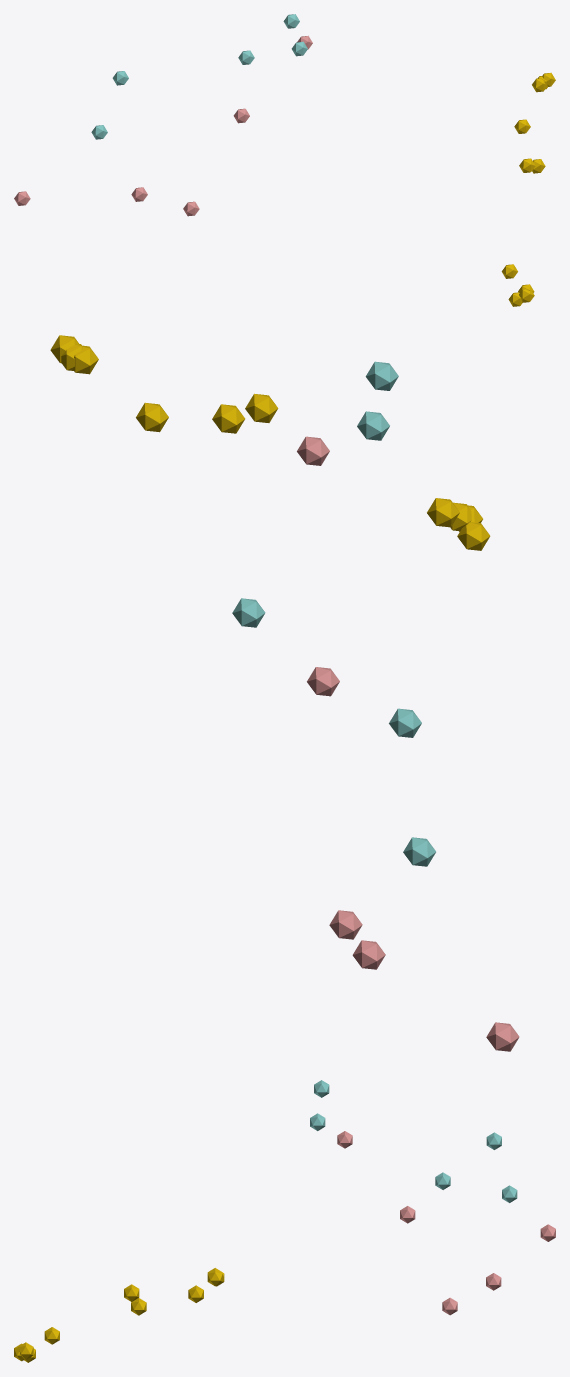
The model's file is morita.gltf.
3 views of the same model, one above another, from view 1: azimuth 30°, elevation 25°; view 2: azimuth 150°, elevation 25°; view 3: azimuth 270°, elevation 25° (orthographic). The views are drawn at different scales.
Visible parts, largest first — view 1: DataPoints; view 2: DataPoints; view 3: DataPoints.
Boxes of the visible parts, x1,y1,x2,y2 form: DataPoints: (14, 14, 555, 306); DataPoints: (50, 335, 519, 1051); DataPoints: (14, 1080, 555, 1362).
Size of the model in its own units: 0.7961 by 0.4631 by 0.8982.
